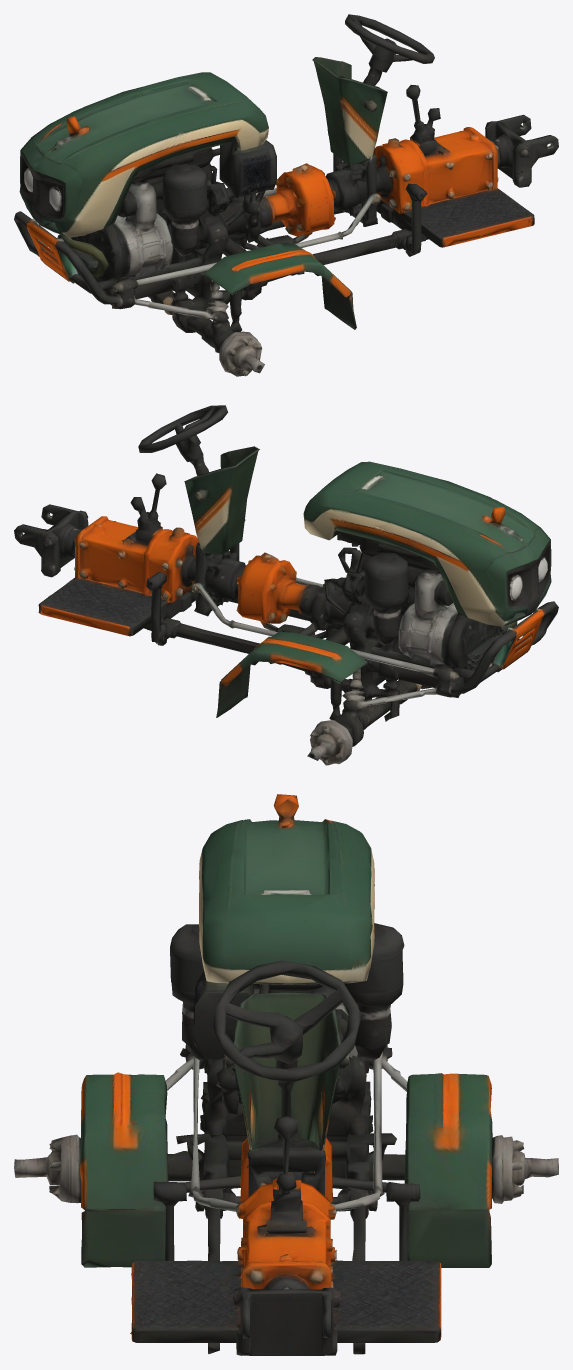
Rendered from patpat-kafa-tripo.glb.
3 views of the same model, one above another, from view 1: azimuth 30°, elevation 25°; view 2: azimuth 150°, elevation 25°; view 3: azimuth 270°, elevation 25° (orthographic). The views are drawn at different scales.
Parts seen in each view (by area): view 1: tripo_node_e6ddd6aa-305f-470a-87a9-c6b43ff23c7b; view 2: tripo_node_e6ddd6aa-305f-470a-87a9-c6b43ff23c7b; view 3: tripo_node_e6ddd6aa-305f-470a-87a9-c6b43ff23c7b.
Part boxes in pixels (x1=…): tripo_node_e6ddd6aa-305f-470a-87a9-c6b43ff23c7b: x1=14, y1=14, x2=558, y2=376; tripo_node_e6ddd6aa-305f-470a-87a9-c6b43ff23c7b: x1=14, y1=405, x2=558, y2=765; tripo_node_e6ddd6aa-305f-470a-87a9-c6b43ff23c7b: x1=14, y1=794, x2=558, y2=1355.
Size of the model in its own units: 0.9814 by 0.4649 by 0.6111.
1 material, 1 textured.
